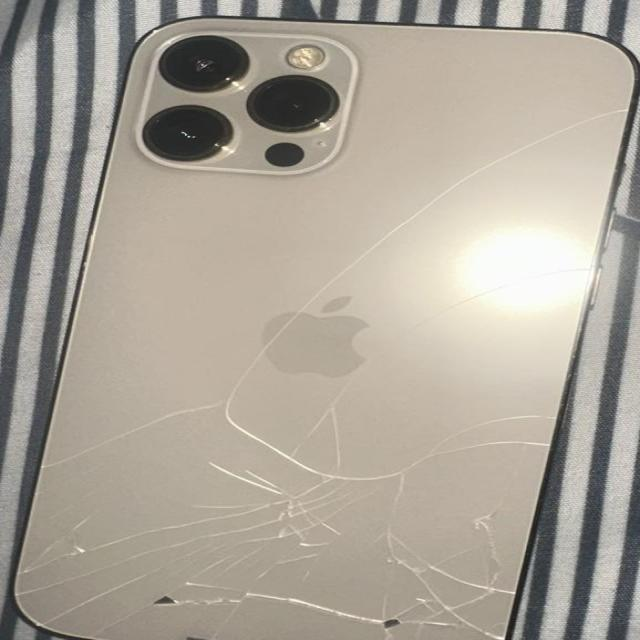gen_12_13: (9, 16, 640, 640)
physical_damage: (22, 470, 199, 571), (279, 487, 446, 576), (268, 403, 434, 485), (9, 573, 202, 640), (13, 408, 198, 475), (210, 565, 370, 640), (443, 395, 595, 473), (450, 506, 574, 590), (514, 91, 640, 167), (370, 575, 517, 640), (346, 200, 464, 270), (195, 451, 267, 564), (277, 259, 390, 330), (235, 331, 336, 409), (168, 388, 275, 453), (434, 144, 524, 215)
